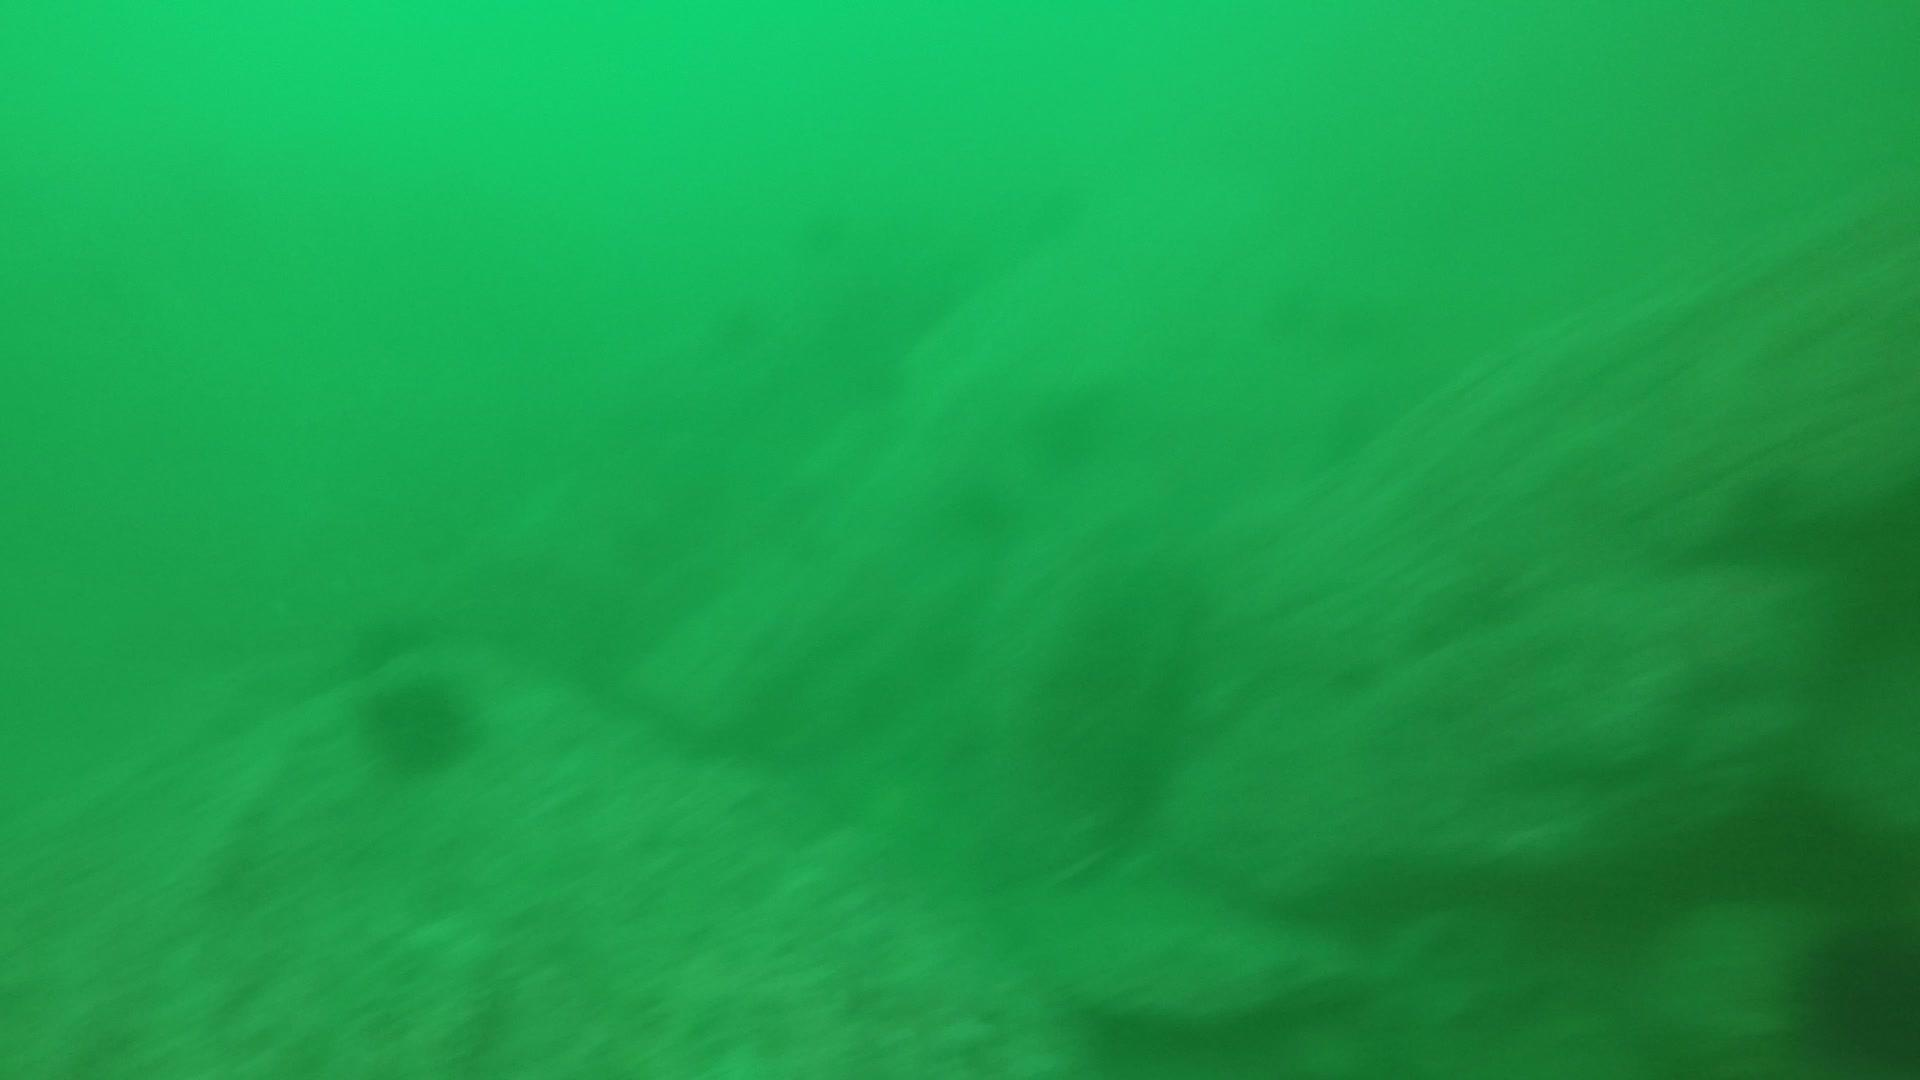echinus: (1782, 910, 1919, 1071), (353, 665, 483, 781), (1013, 377, 1142, 492), (927, 431, 1056, 546)
